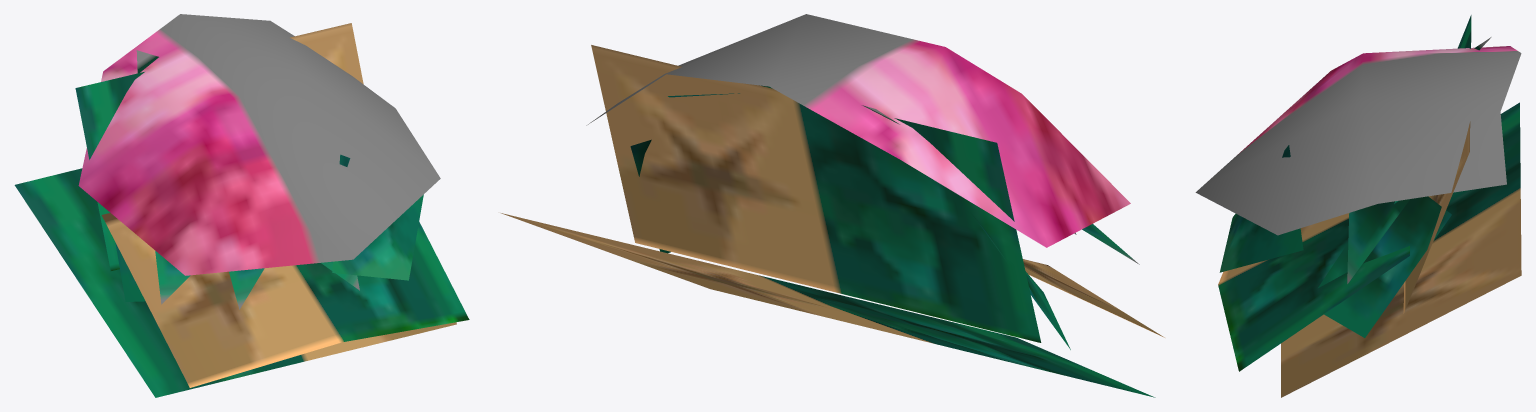
The model's file is fg_bushC_2_s.dae.
3 renders of one model, left to right at view 1: azimuth 30°, elevation 25°; view 2: azimuth 150°, elevation 25°; view 3: azimuth 270°, elevation 25°, orthographic. The views are drawn at different scales.
Parts seen in each view (by area): view 1: fg_bushC_2_s; view 2: fg_bushC_2_s; view 3: fg_bushC_2_s.
Boxes of the visible parts, x1=… form: fg_bushC_2_s: x1=14, y1=14, x2=469, y2=397; fg_bushC_2_s: x1=501, y1=14, x2=1164, y2=397; fg_bushC_2_s: x1=1195, y1=15, x2=1521, y2=397.
Size of the model in its own units: 47.83 by 34.27 by 38.04.
Materials: 1 (1 with a texture image).
